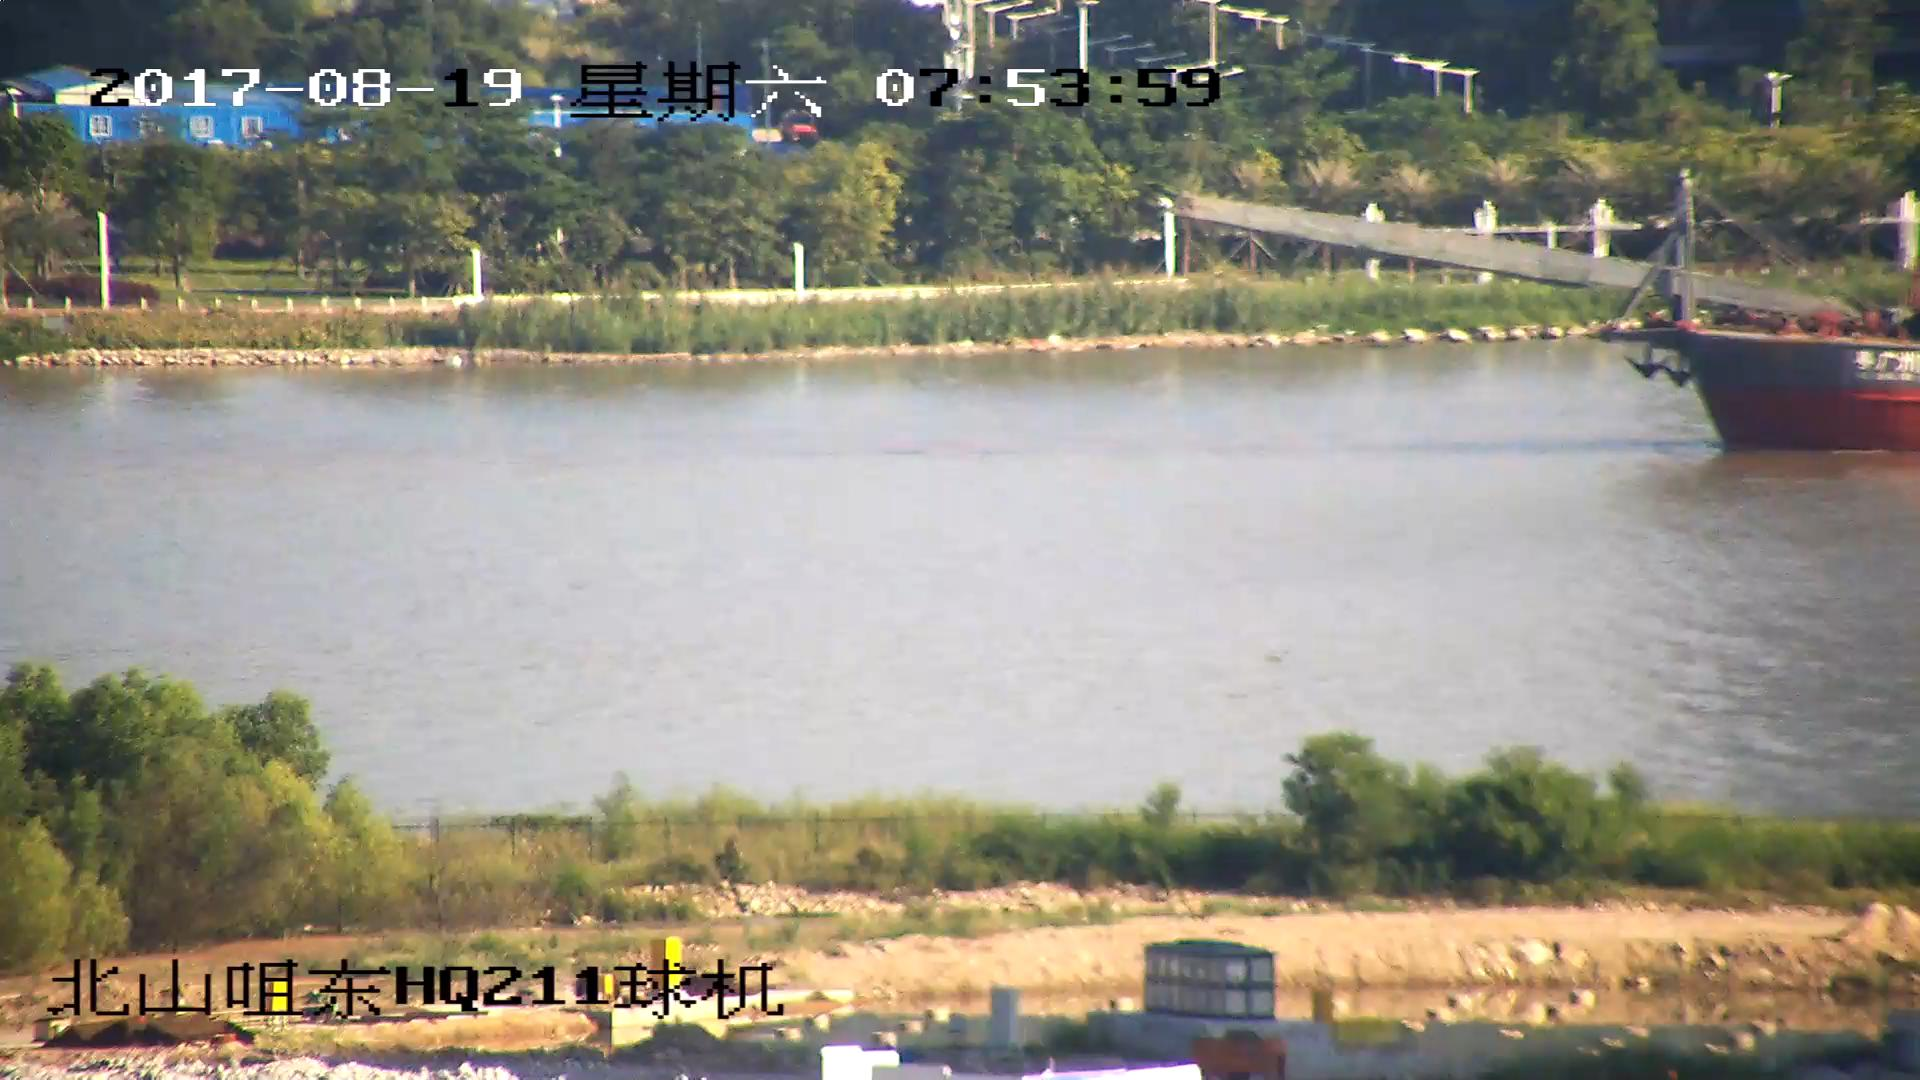bulk cargo carrier: (1180, 190, 1920, 454)
